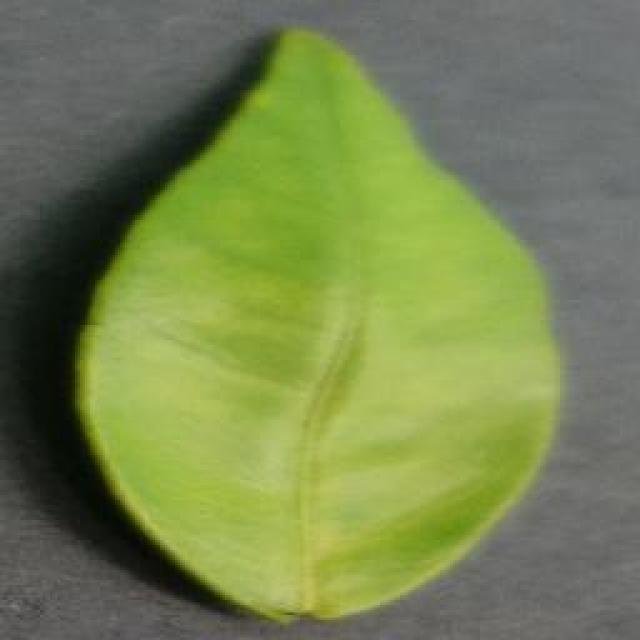Orange_Haunglongbing_Citrus_greening: (156, 114, 519, 541)
